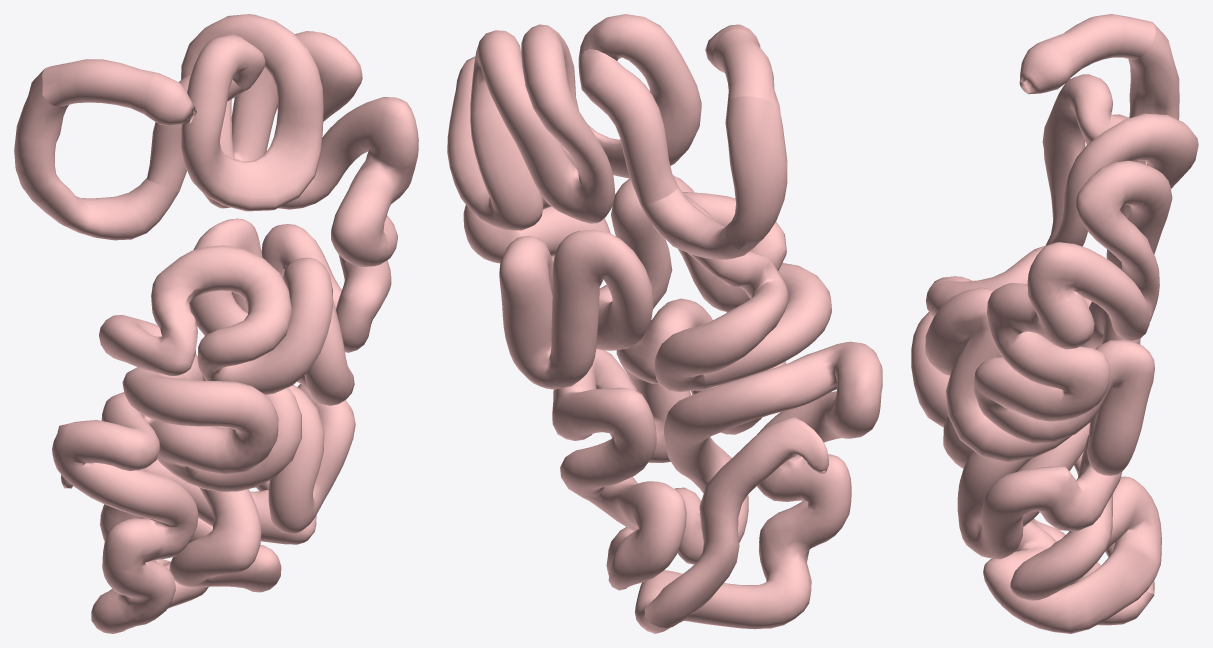
File: small_intestine.glb
3 views of the same model, side by side, from view 1: azimuth 30°, elevation 25°; view 2: azimuth 150°, elevation 25°; view 3: azimuth 270°, elevation 25° (orthographic). The views are drawn at different scales.
Visible parts, largest first — view 1: VH_M_ileum; view 2: VH_M_ileum; view 3: VH_M_ileum.
Part boxes in pixels (box(x1,y1,x2,y2)): VH_M_ileum: box(14, 14, 418, 633); VH_M_ileum: box(447, 14, 882, 633); VH_M_ileum: box(911, 14, 1198, 633).
Size of the model in its own units: 0.188 by 0.2654 by 0.1222.
